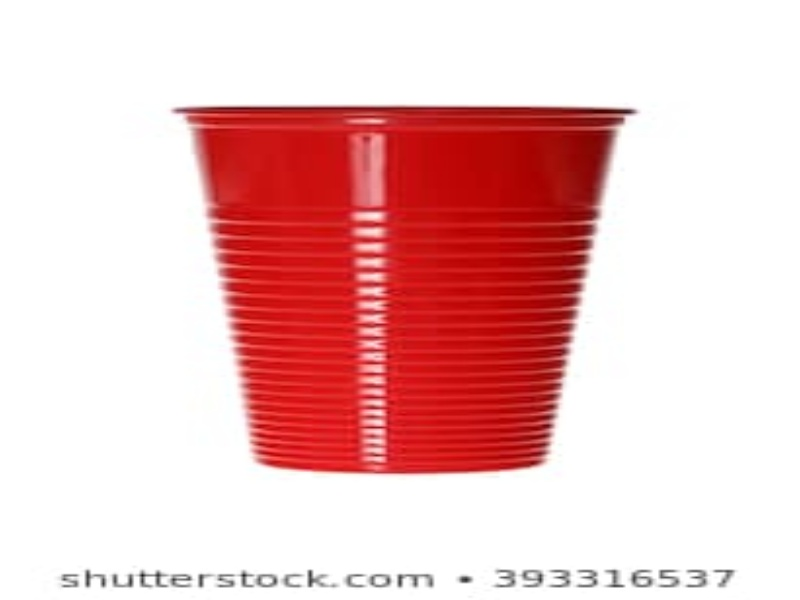plastic-cup: (169, 101, 645, 477)
